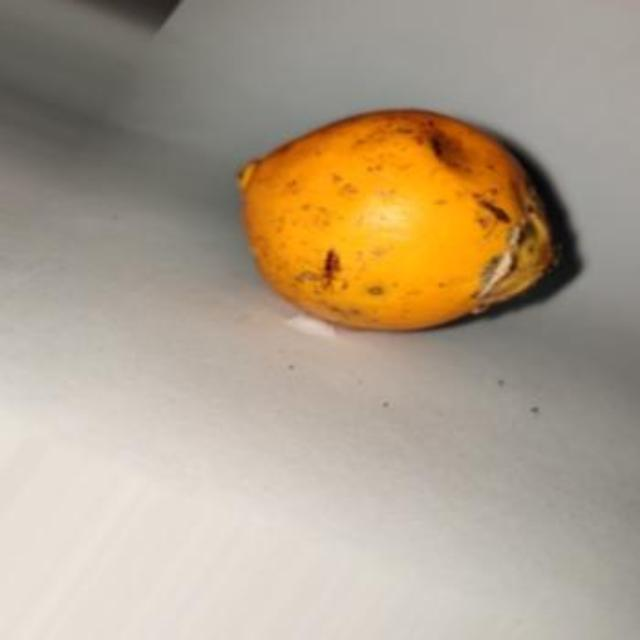good: (236, 110, 578, 335)
